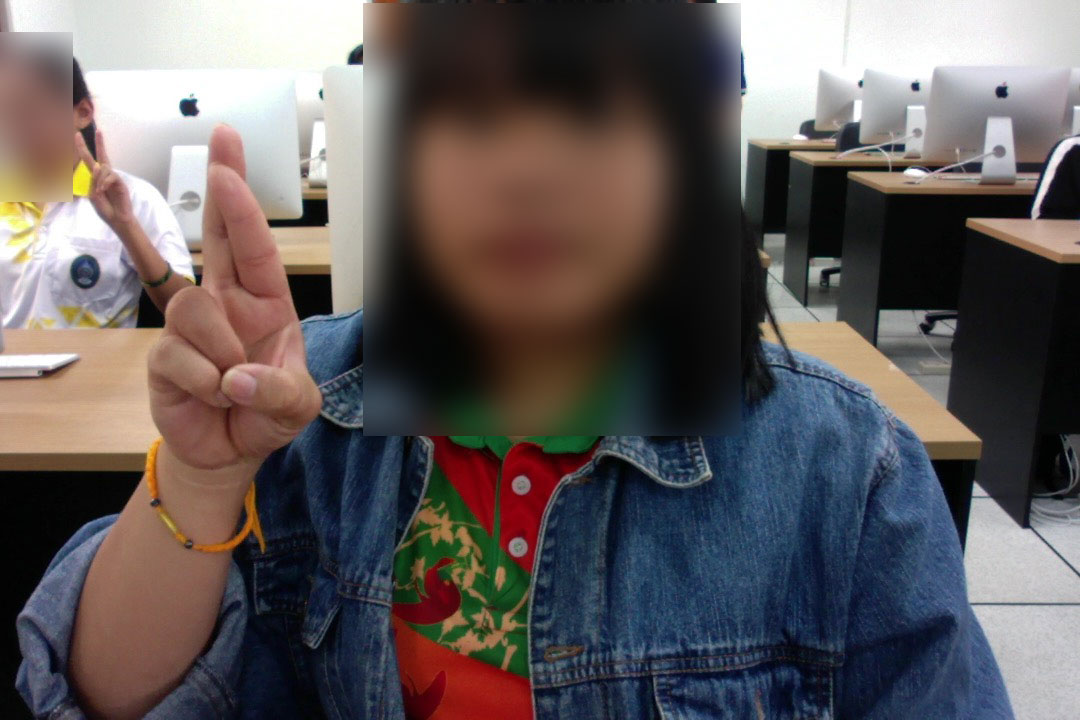rao: (125, 116, 333, 471)
